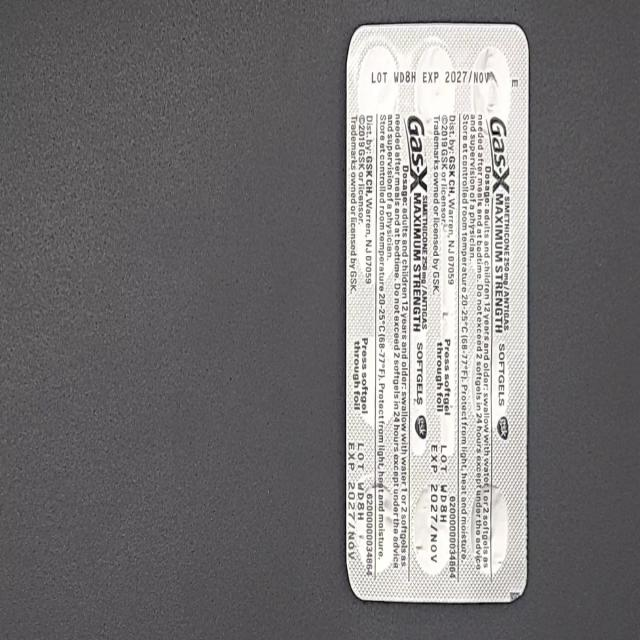no defect: (11, 19, 34, 62)
